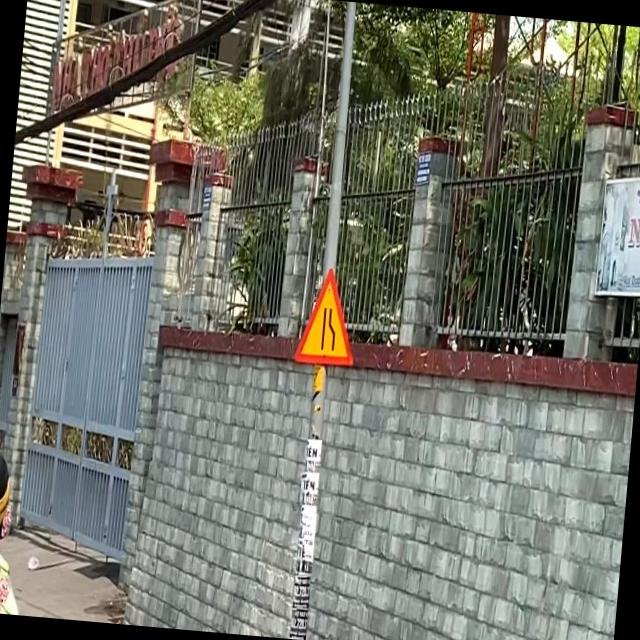W-203c: (294, 266, 359, 368)
